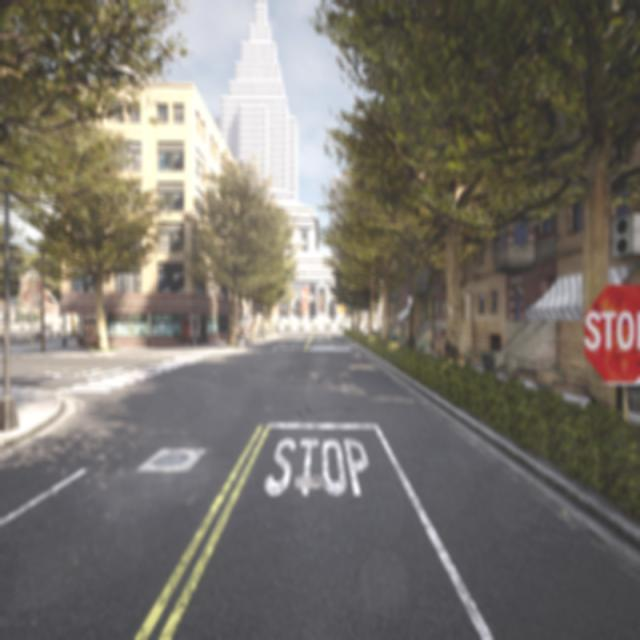stop sign: (578, 278, 640, 389), (582, 306, 640, 354)
